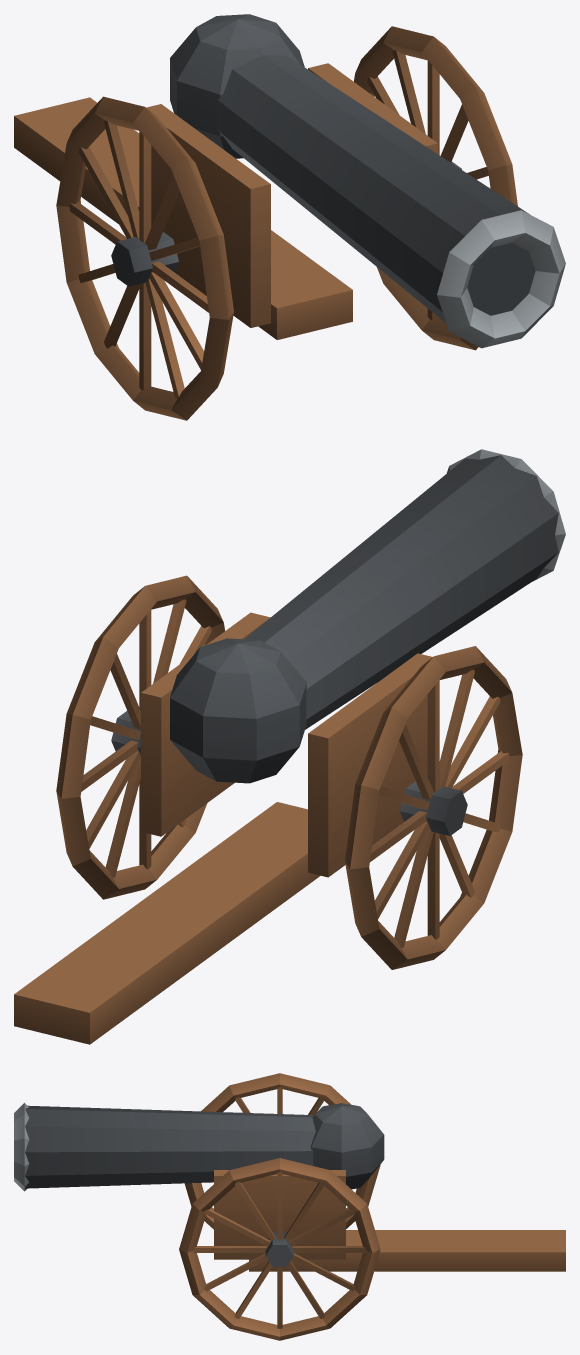
Rendered from M_CANNON.glb.
3 renders of one model, top to bottom at view 1: azimuth 30°, elevation 25°; view 2: azimuth 150°, elevation 25°; view 3: azimuth 270°, elevation 25°, orthographic. The views are drawn at different scales.
Parts seen in each view (by area): view 1: Barrel, Wheel_0, Body, Wheel_1; view 2: Barrel, Body, Wheel_0, Wheel_1; view 3: Barrel, Body, Wheel_1, Wheel_0.
Part boxes in pixels (x1,y1,x2,y2): Barrel: [170, 14, 565, 348]; Wheel_0: [56, 96, 233, 420]; Body: [14, 63, 437, 339]; Wheel_1: [354, 26, 517, 350]; Barrel: [170, 449, 565, 783]; Body: [14, 612, 432, 1044]; Wheel_0: [345, 646, 522, 969]; Wheel_1: [56, 575, 224, 899]; Barrel: [14, 1103, 384, 1191]; Body: [214, 1170, 565, 1271]; Wheel_1: [179, 1158, 380, 1340]; Wheel_0: [184, 1073, 380, 1229].
Bounding box in the file's own units: 1.32 × 1.2 × 3.14.
Materials: 1 (1 with a texture image).
